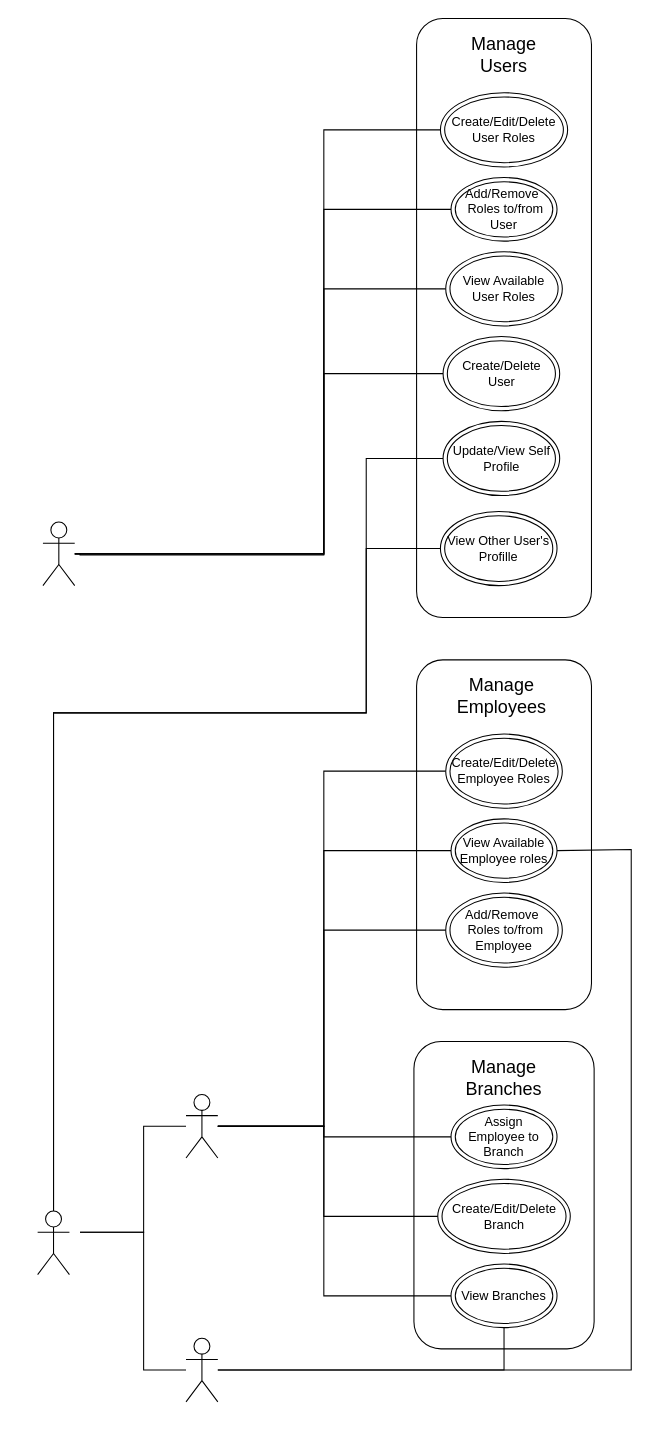
Image size: 651x1443. Some labels were removed from this diagram. The box of each missing label's shape, as (x1, y1, x2, y2) in pixels:
Employee: (185, 1337, 218, 1402)
Owner: (185, 1093, 218, 1158)
System Admin: (42, 521, 75, 586)
User: (37, 1210, 69, 1275)
